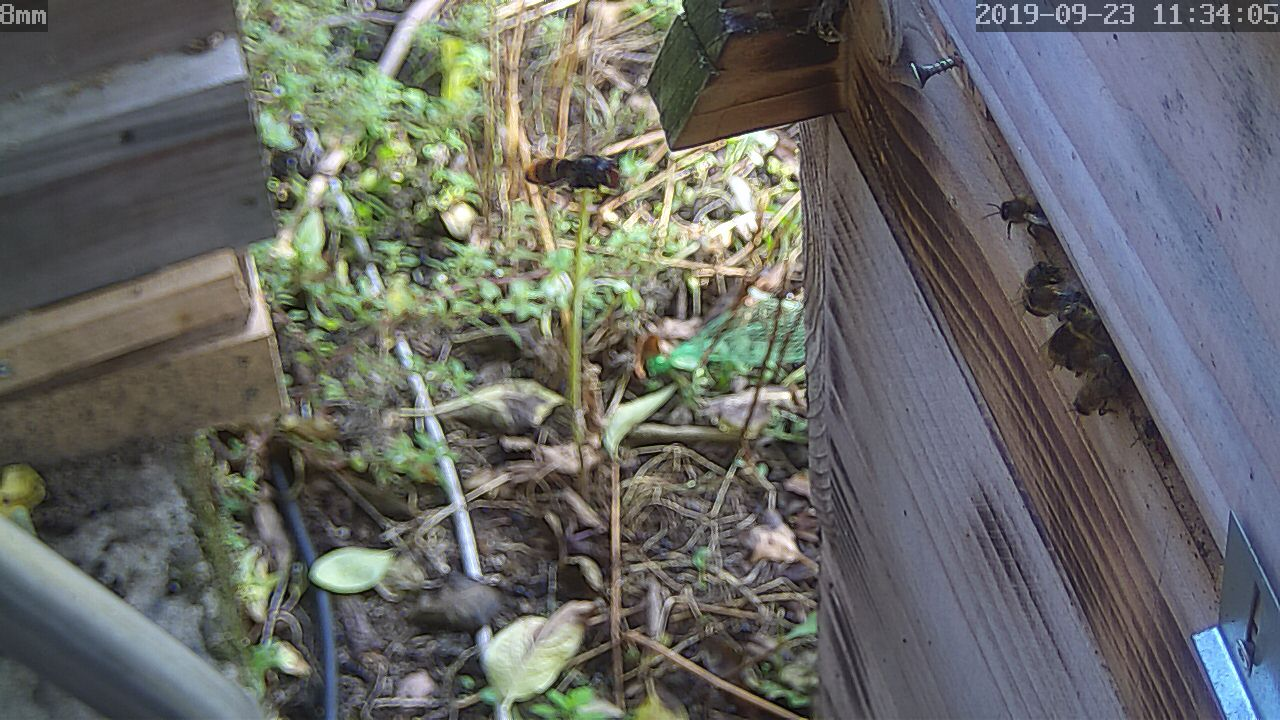bee: (1007, 259, 1078, 316), (1039, 316, 1102, 377), (993, 189, 1063, 243), (1070, 368, 1134, 414)
hornet: (518, 141, 631, 213)
